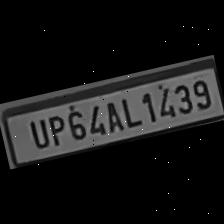1: (131, 88, 159, 130)
3: (169, 80, 194, 116)
4: (80, 100, 106, 139), (152, 83, 176, 121)
6: (62, 106, 88, 143)
9: (187, 73, 214, 112)
A: (102, 94, 134, 135)
L: (118, 94, 142, 130)
P: (44, 111, 69, 147)
U: (23, 114, 50, 151)
